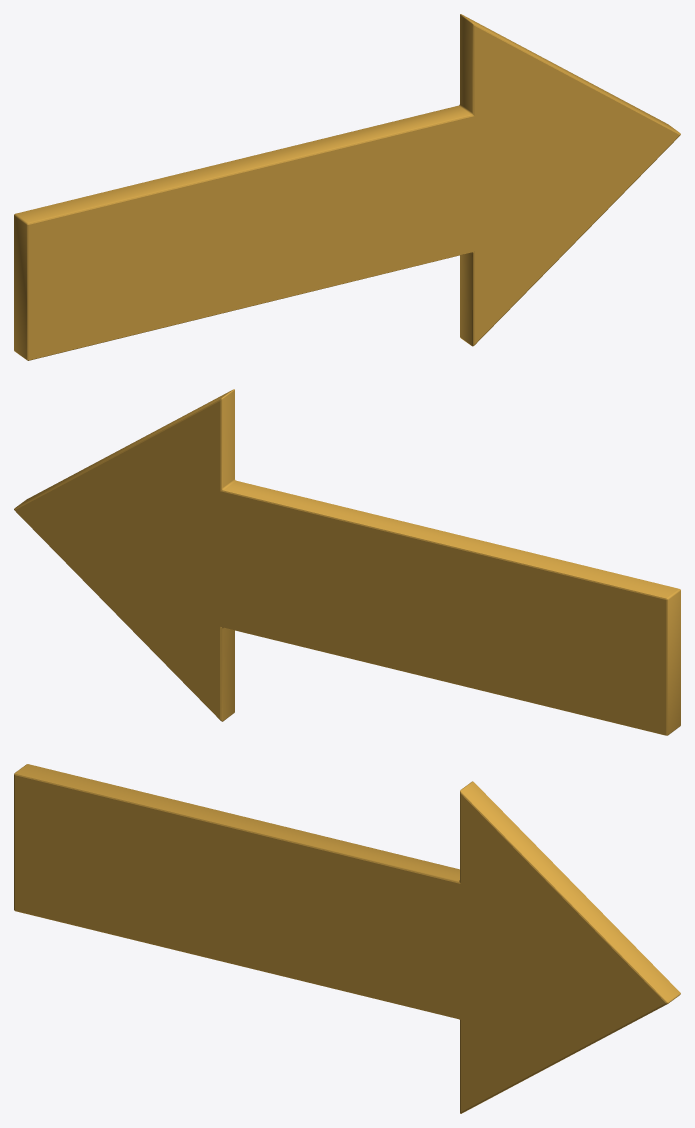
Rendered from Arrow.glb.
3 views of the same model, one above another, from view 1: azimuth 30°, elevation 25°; view 2: azimuth 150°, elevation 25°; view 3: azimuth 330°, elevation 25° (orthographic).
Visible parts, largest first — view 1: Arrow.001; view 2: Arrow.001; view 3: Arrow.001.
Boxes of the visible parts, left/top/right/bottom form: Arrow.001: left=14, top=14, right=680, bottom=360; Arrow.001: left=14, top=389, right=680, bottom=735; Arrow.001: left=14, top=764, right=680, bottom=1113.
Bounding box in the file's own units: 0.393 × 0.1858 × 0.0144.
